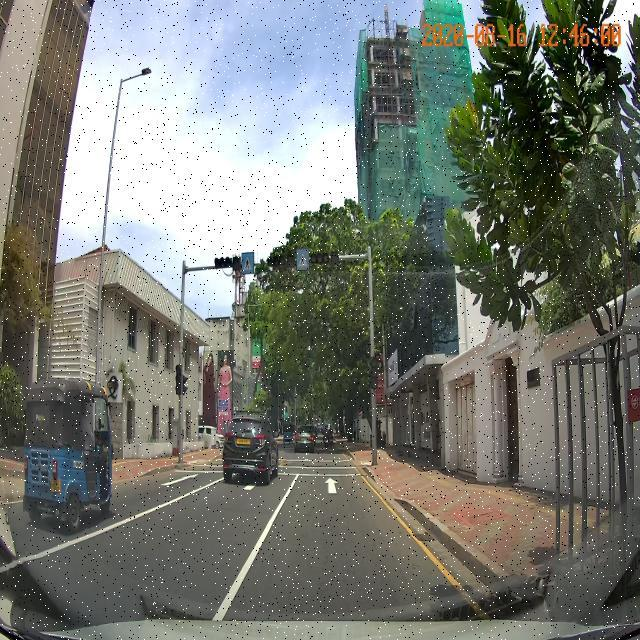forward: (282, 474, 385, 498)
